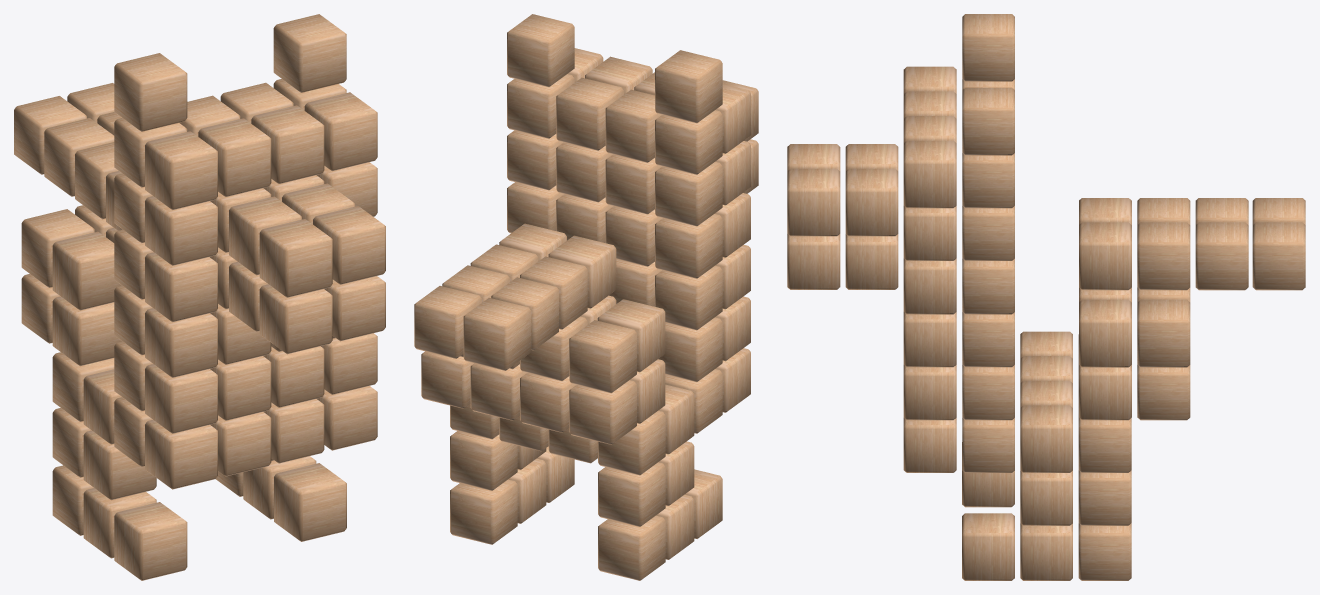
The model's file is level_80.fbx.
The picture shows the model from 3 angles, left to right: view 1: azimuth 30°, elevation 25°; view 2: azimuth 150°, elevation 25°; view 3: azimuth 270°, elevation 25°; orthographic projection. The views are drawn at different scales.
Visible parts, largest first — view 1: Cube.095, Cube.085, Cube.101, Cube.099, Cube.076, Cube.094, Cube.040, Cube.083, Cube.060, Cube.044, Cube.042, Cube.074 (+45 smaller); view 2: Cube.097, Cube.099, Cube.101, Cube.041, Cube.093, Cube.091, Cube.061, Cube.075, Cube.039, Cube.077, Cube.089, Cube.067 (+46 smaller); view 3: Cube.080, Cube.007, Cube.008, Cube.031, Cube.072, Cube.084, Cube.096, Cube.006, Cube.030, Cube.099, Cube.094, Cube.101 (+34 smaller).
Boxes of the visible parts, x1,y1,x2,y2 form: Cube.095: (114, 502, 187, 580); Cube.085: (259, 219, 332, 297); Cube.101: (114, 53, 187, 131); Cube.099: (273, 14, 346, 92); Cube.076: (145, 131, 217, 210); Cube.094: (274, 463, 346, 541); Cube.040: (52, 231, 121, 310); Cube.083: (259, 284, 332, 354); Cube.060: (145, 252, 217, 322); Cube.044: (145, 364, 217, 433); Cube.042: (145, 420, 217, 489); Cube.074: (145, 196, 217, 265); Cube.097: (463, 298, 531, 370); Cube.099: (507, 14, 574, 86); Cube.101: (655, 50, 722, 123); Cube.041: (569, 320, 636, 393); Cube.093: (598, 515, 665, 580); Cube.091: (450, 479, 517, 544); Cube.061: (655, 214, 722, 278); Cube.075: (655, 162, 722, 226); Cube.039: (569, 380, 636, 444); Cube.077: (655, 110, 722, 174); Cube.089: (598, 462, 665, 526); Cube.067: (556, 77, 623, 150); Cube.080: (845, 168, 898, 236); Cube.007: (1137, 222, 1190, 290); Cube.008: (1195, 222, 1248, 290); Cube.031: (1137, 299, 1190, 367); Cube.072: (903, 140, 956, 208); Cube.084: (787, 168, 840, 236); Cube.096: (1252, 222, 1305, 290); Cube.006: (1079, 222, 1131, 290); Cube.030: (1079, 299, 1131, 367); Cube.099: (962, 87, 1014, 155); Cube.094: (962, 513, 1014, 580); Cube.101: (962, 14, 1014, 81).
Bounding box in the file's own units: 8.6 × 19.74 × 19.59.
